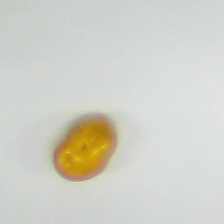poteto: (37, 101, 128, 193)
